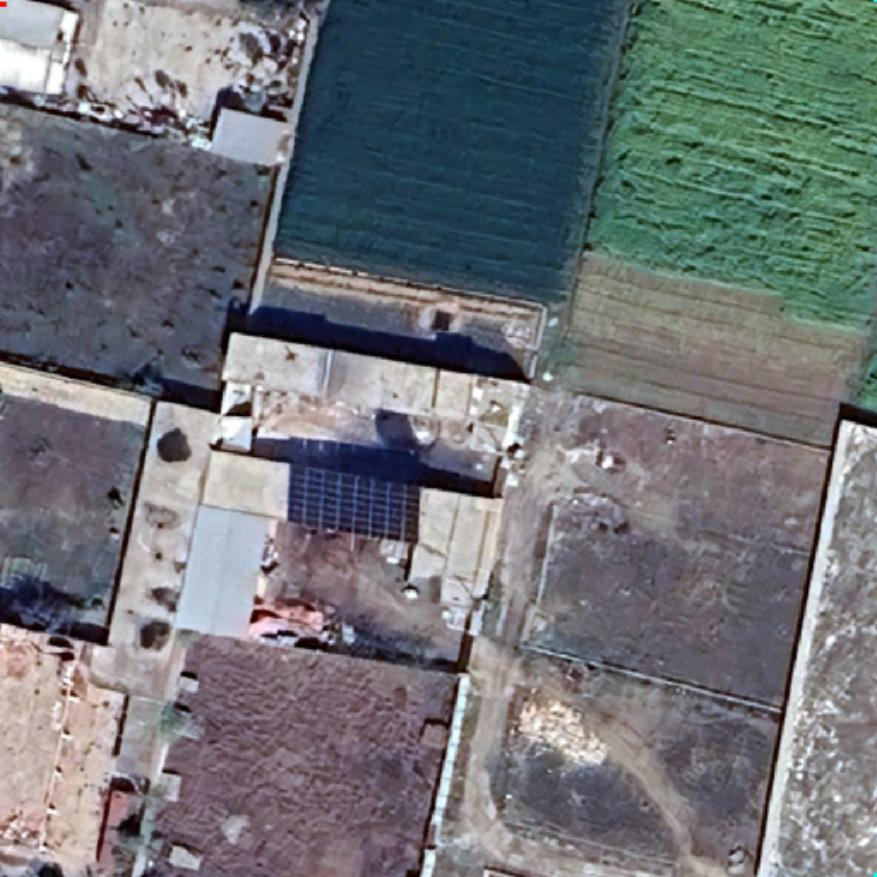Solarpanel: (289, 461, 425, 544)
